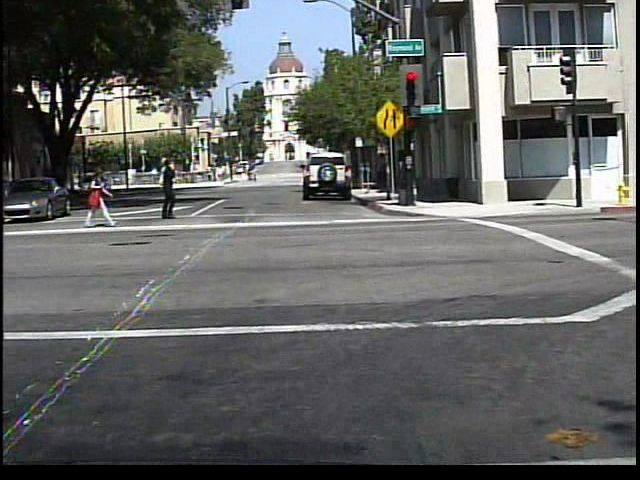person: (146, 158, 184, 223), (79, 162, 114, 230), (243, 167, 252, 184), (252, 167, 256, 184)
